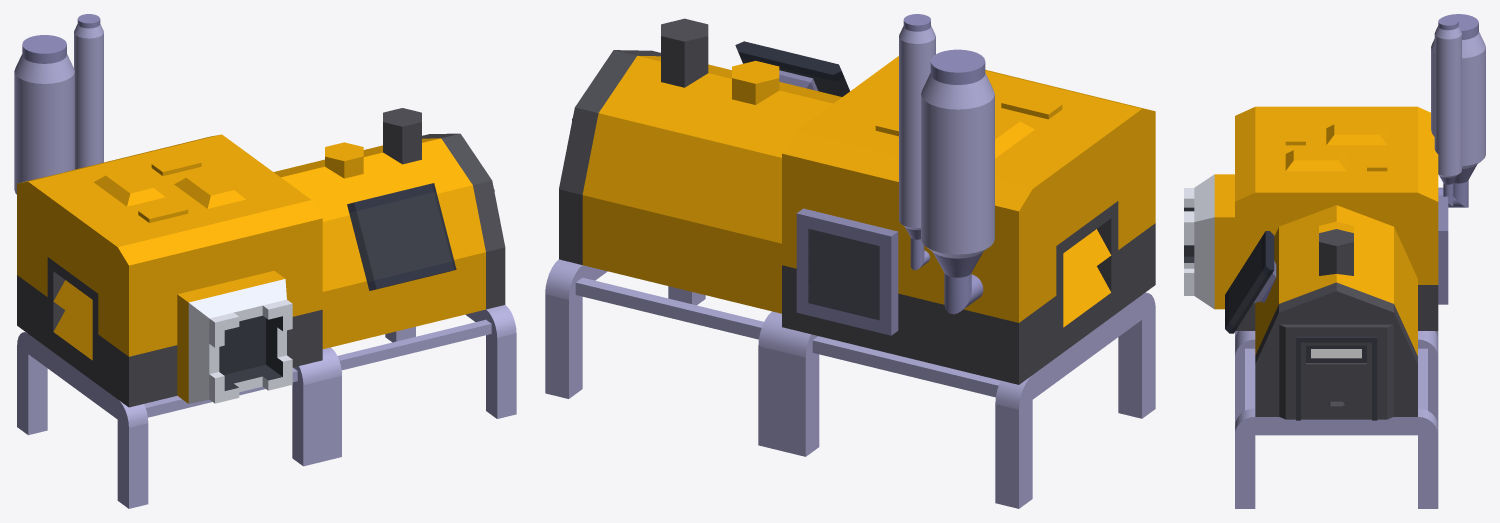
Rendered from Generator_Station.fbx.
The picture shows the model from 3 angles, left to right: view 1: azimuth 30°, elevation 25°; view 2: azimuth 150°, elevation 25°; view 3: azimuth 270°, elevation 25°; orthographic projection. The views are drawn at different scales.
Parts seen in each view (by area): view 1: mergedBlocks; view 2: mergedBlocks; view 3: mergedBlocks.
Boxes of the visible parts, left/top/right/bottom form: mergedBlocks: left=14, top=14, right=516, bottom=508; mergedBlocks: left=545, top=14, right=1155, bottom=508; mergedBlocks: left=1184, top=14, right=1485, bottom=508.
Bounding box in the file's own units: 20.46 × 19 × 14.85.
